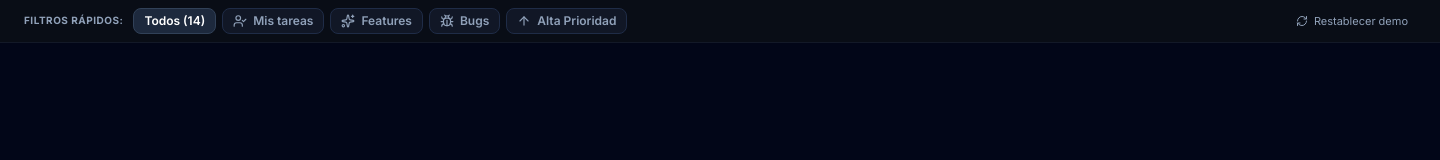
Test: QuickFilterBar Component › activates and toggles filter when clicked
Click the button "Bugs" at (465, 21), box [429,8,500,34]
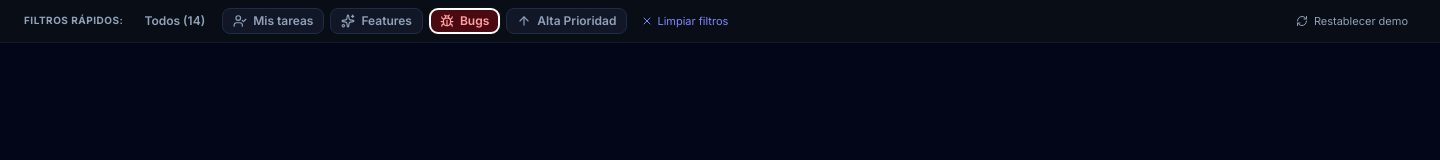
expect the text "Limpiar filtros" is shown: met, box [657,14,728,28]
